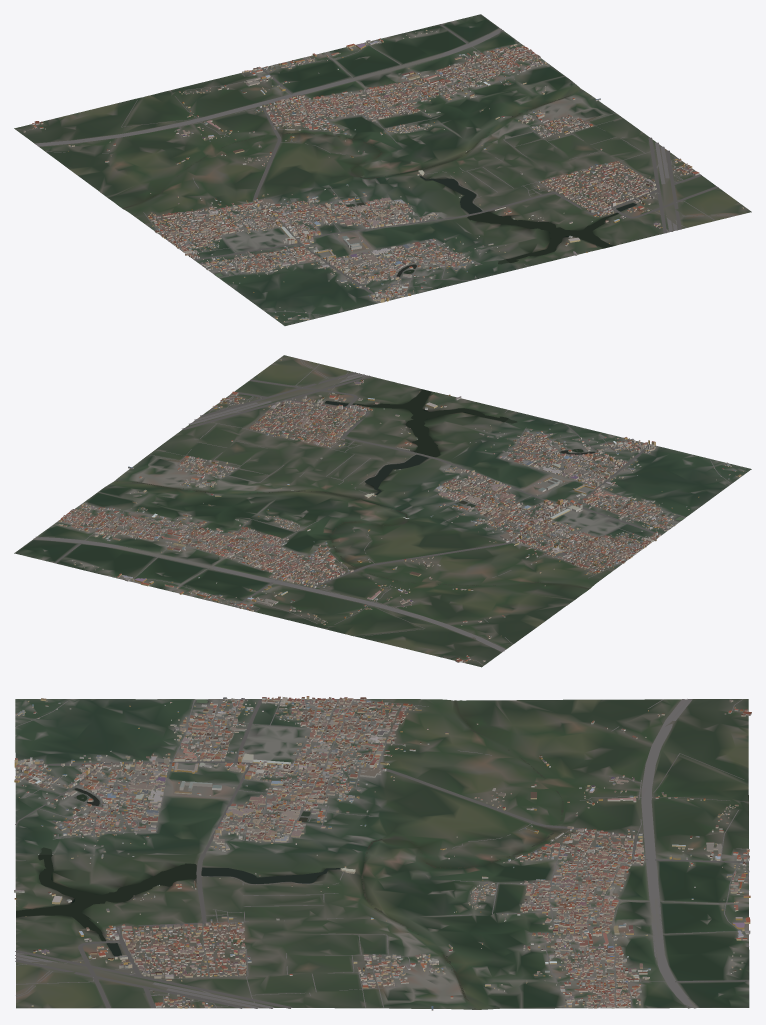
3 renders of one model, top to bottom at view 1: azimuth 30°, elevation 25°; view 2: azimuth 150°, elevation 25°; view 3: azimuth 270°, elevation 25°, orthographic. The views are drawn at different scales.
Parts seen in each view (by area): view 1: ground, buildings, roads, water; view 2: ground, buildings, roads, water; view 3: ground, buildings, roads, water.
Boxes of the visible parts, x1,y1,x2,y2 form: ground: (14,14,751,325); buildings: (23,30,743,321); roads: (16,24,735,315); water: (122,90,636,276); ground: (14,355,751,667); buildings: (58,359,743,662); roads: (33,359,729,665); water: (117,389,684,589); ground: (15,699,749,1009); buildings: (14,696,751,1010); roads: (15,699,749,1008); water: (16,699,563,1008).
Bounding box in the file's own units: 2823 × 38.6 × 2822.
